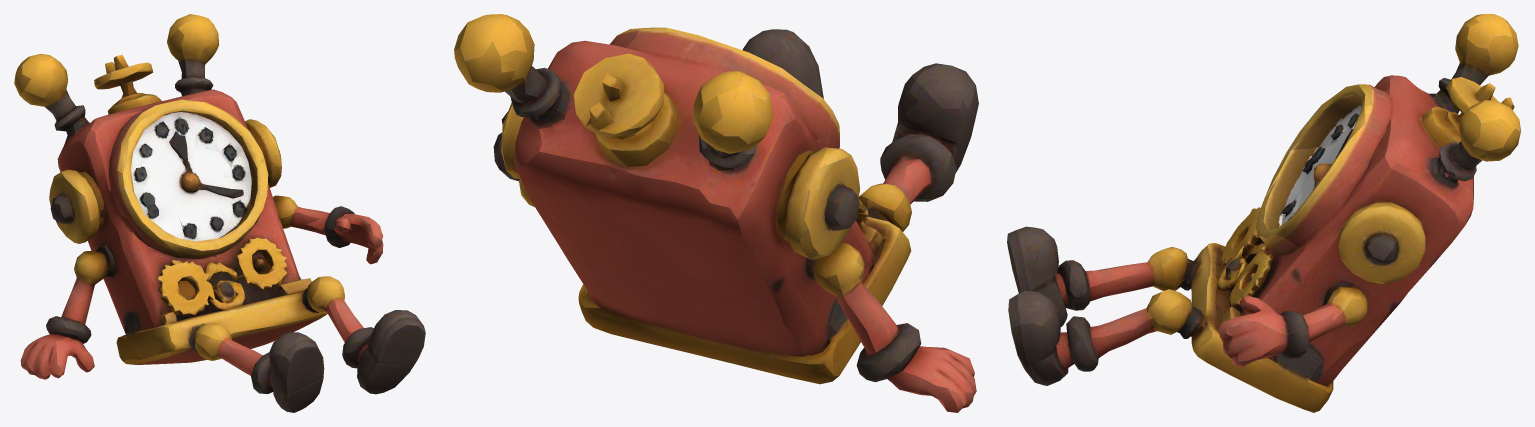
Rendered from sz-automaton-broken.glb.
3 views of the same model, side by side, from view 1: azimuth 30°, elevation 25°; view 2: azimuth 150°, elevation 25°; view 3: azimuth 270°, elevation 25° (orthographic). The views are drawn at different scales.
Visible parts, largest first — view 1: geometry_0; view 2: geometry_0; view 3: geometry_0.
Part boxes in pixels (x1,y1,x2,y2): geometry_0: (14, 14, 425, 412); geometry_0: (454, 14, 978, 412); geometry_0: (1007, 14, 1520, 412).
Bounding box in the file's own units: 0.8567 × 0.6568 × 1.
Materials: 1 (1 with a texture image).
